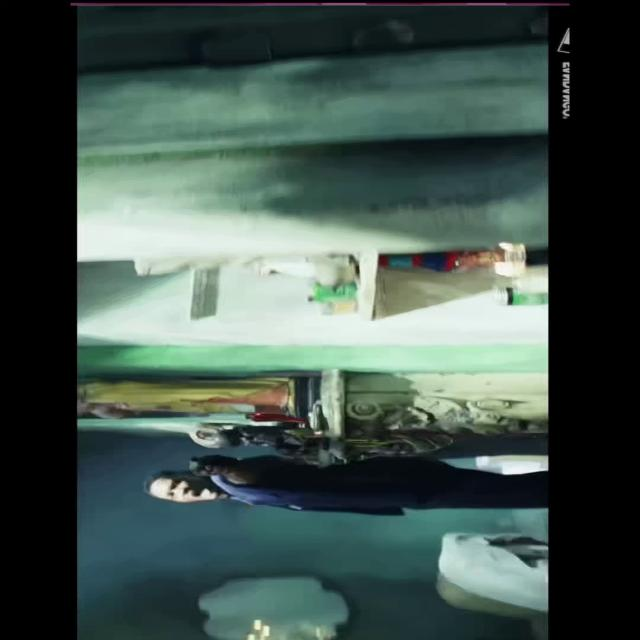weapons: (176, 442, 251, 478)
